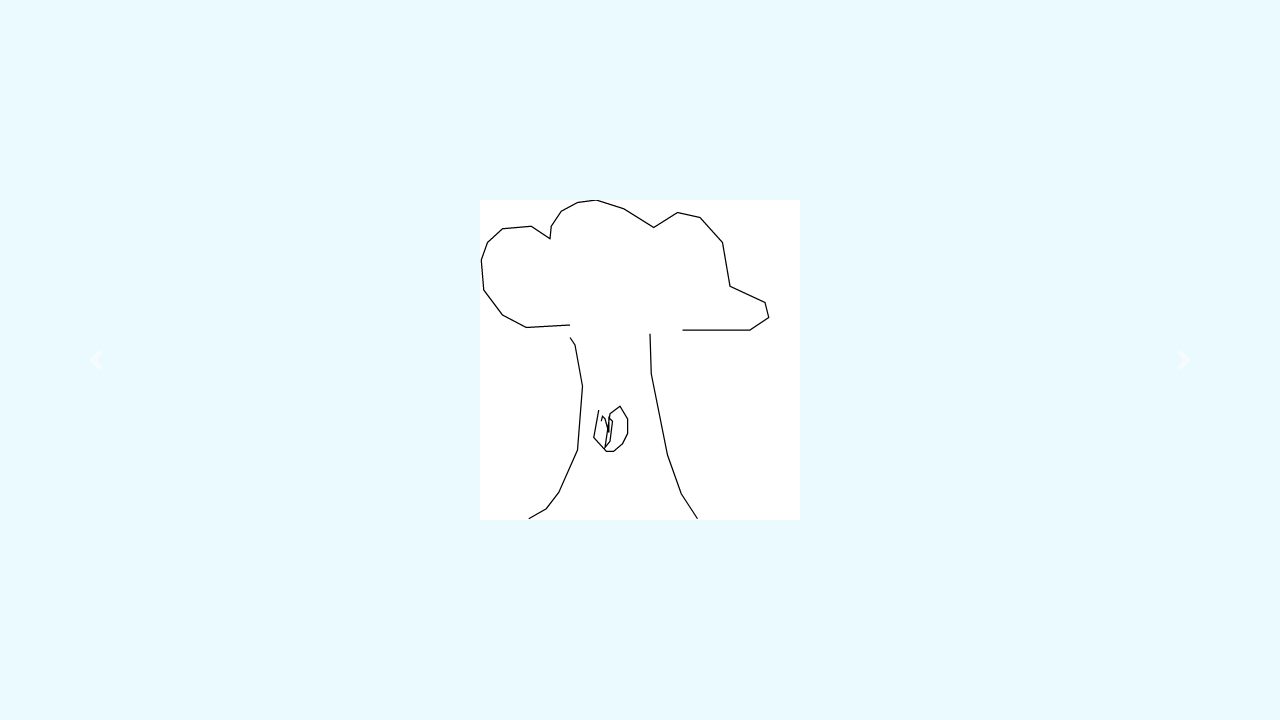tree: (474, 189, 772, 524)
